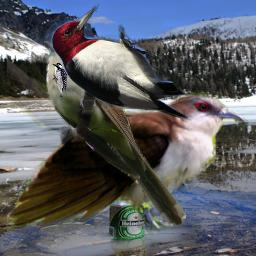Cuckoo: (7, 2, 248, 238), (44, 41, 186, 227)
Woodpecker: (44, 4, 197, 120), (52, 63, 67, 97)
